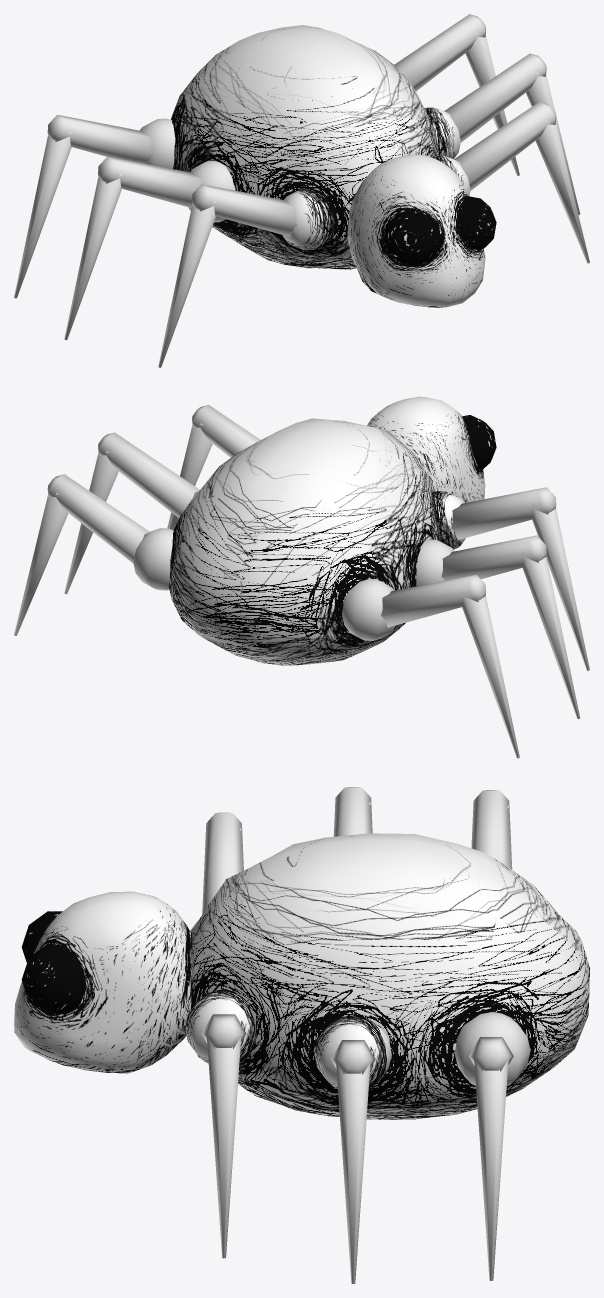
File: insect-tex2 (1).dae
3 renders of one model, top to bottom at view 1: azimuth 30°, elevation 25°; view 2: azimuth 150°, elevation 25°; view 3: azimuth 270°, elevation 25°, orthographic. The views are drawn at different scales.
Visible parts, largest first — view 1: Body, Head, uprleg-2-l, uprleg-1-l, uprleg-1-r, uprleg-3-r, uprleg-2-r, uprleg-3-l, lwrleg-2-r, Cone.002, lwrleg-3-r, Icosphere (+8 smaller); view 2: Body, Head, uprleg-3-l, uprleg-2-l, uprleg-1-r, uprleg-3-r, uprleg-2-r, lwrleg-3-r, lwrleg-2-r, Cone.002, shoulder-3-r, lwrleg-3-r.001 (+7 smaller); view 3: Body, Head, lwrleg-3-r.001, lwrleg-2-l, Cone.004, Icosphere.001, shoulder-2-l, shoulder-3-l, uprleg-1-r, shoulder-1-l, uprleg-3-r, uprleg-2-r (+4 smaller).
Boxes of the visible parts, x1,y1,x2,y2 form: Body: (171,25,438,269); Head: (347,154,485,307); uprleg-2-l: (444,53,546,142); uprleg-1-l: (454,101,556,190); uprleg-1-r: (192,184,296,236); uprleg-3-r: (47,114,152,163); uprleg-2-r: (98,156,201,207); uprleg-3-l: (394,14,486,91); lwrleg-2-r: (64,174,122,340); Cone.002: (158,201,215,367); lwrleg-3-r: (14,132,71,298); Icosphere: (383,210,441,266); Body: (169,418,438,665); Head: (367,396,485,502); uprleg-3-l: (47,474,149,563); uprleg-2-l: (98,432,199,517); uprleg-1-r: (451,487,556,539); uprleg-3-r: (381,574,486,627); uprleg-2-r: (441,535,546,580); lwrleg-3-r: (462,592,519,758); lwrleg-2-r: (522,553,580,718); Cone.002: (532,504,589,670); shoulder-3-r: (342,578,395,640); lwrleg-3-r.001: (14,492,68,635); Body: (190,833,589,1119); Head: (14,891,192,1073); lwrleg-3-r.001: (473,1053,508,1280); lwrleg-2-l: (335,1056,370,1283); Cone.004: (206,1030,241,1258); Icosphere.001: (21,944,85,1015); shoulder-2-l: (314,1016,391,1088); shoulder-3-l: (454,1012,530,1085); uprleg-1-r: (202,812,243,913); shoulder-1-l: (185,989,256,1063); uprleg-3-r: (471,790,512,869); uprleg-2-r: (333,787,372,836).
Size of the model in its own units: 3.79 by 2.94 by 1.58.
